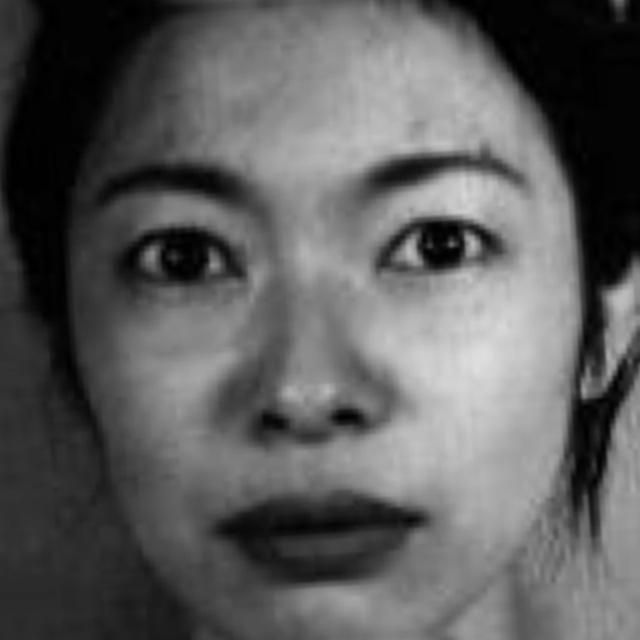fear: (79, 43, 540, 612)
